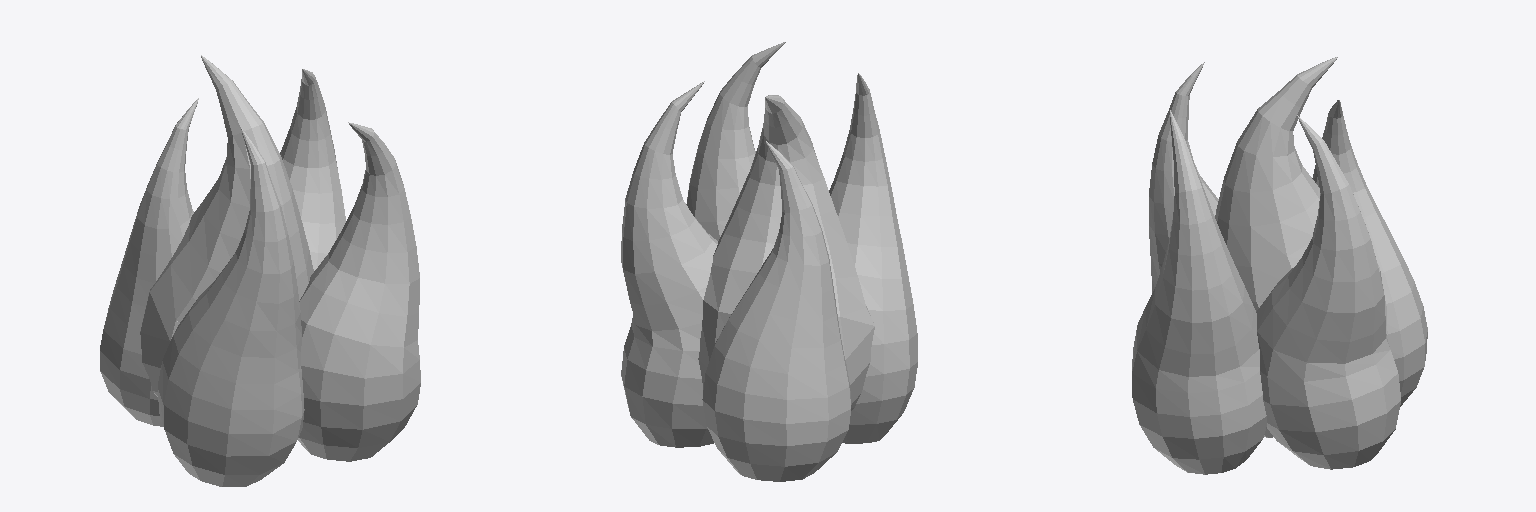
File: fire_000041.obj
3 views of the same model, side by side, from view 1: azimuth 30°, elevation 25°; view 2: azimuth 150°, elevation 25°; view 3: azimuth 270°, elevation 25° (orthographic).
Parts seen in each view (by area): view 1: flame_NurbsPath.015; view 2: flame_NurbsPath.015; view 3: flame_NurbsPath.015.
Boxes of the visible parts, x1,y1,x2,y2 form: flame_NurbsPath.015: [100, 55, 420, 486]; flame_NurbsPath.015: [621, 42, 917, 481]; flame_NurbsPath.015: [1132, 57, 1427, 474].
Size of the model in its own units: 0.7406 by 1.13 by 0.8103.